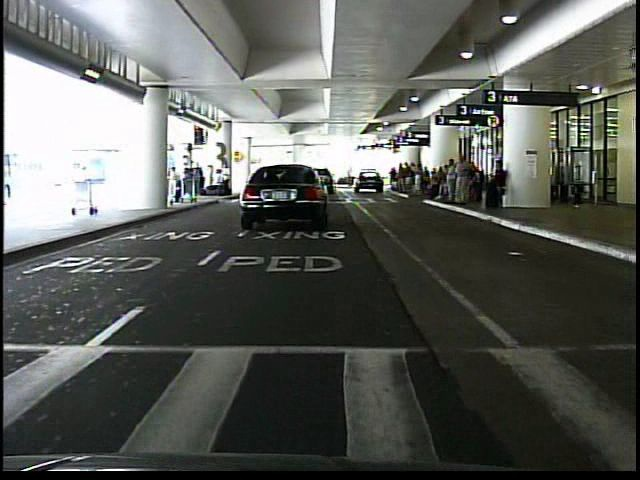person: (452, 151, 474, 210), (165, 163, 185, 215)
